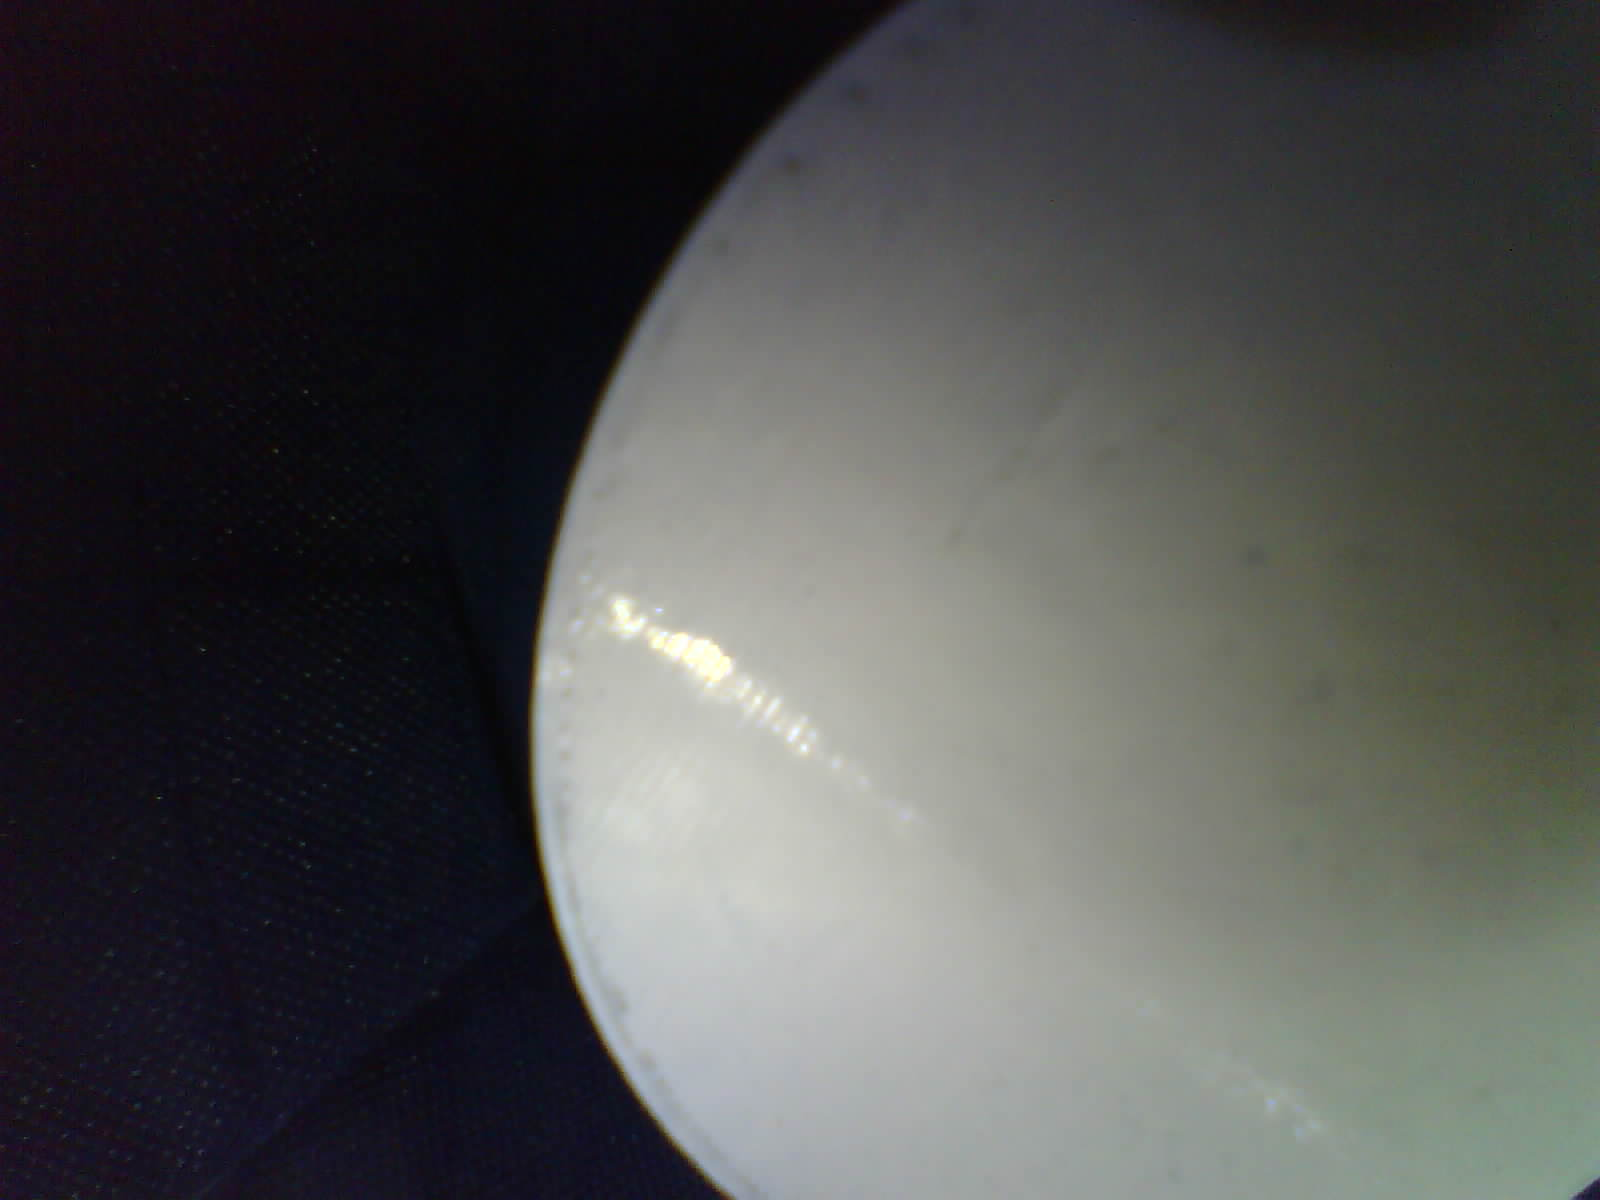cylinder-hard: (500, 0, 1600, 1200)
